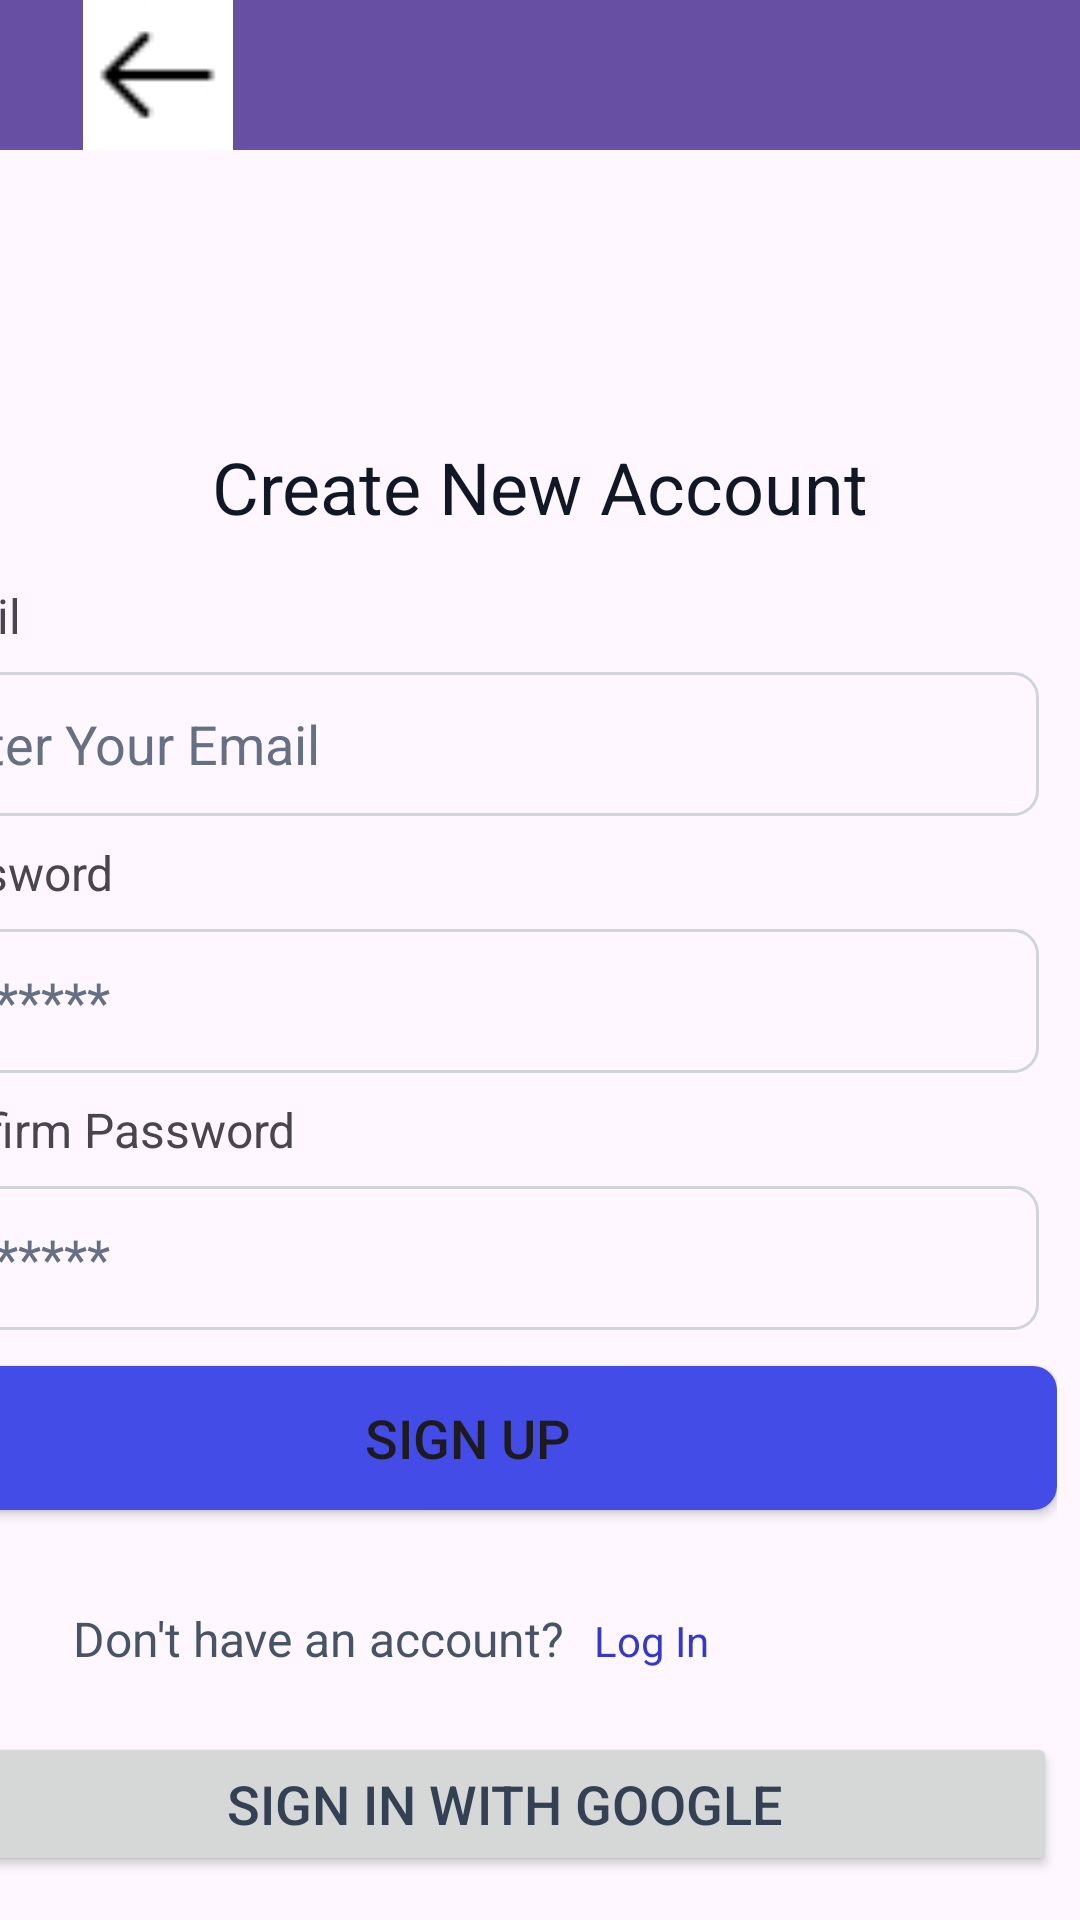

Named icons in this screenshot (1080×1920) and their centers, (x=x, y=y):
back: (x=157, y=75)
